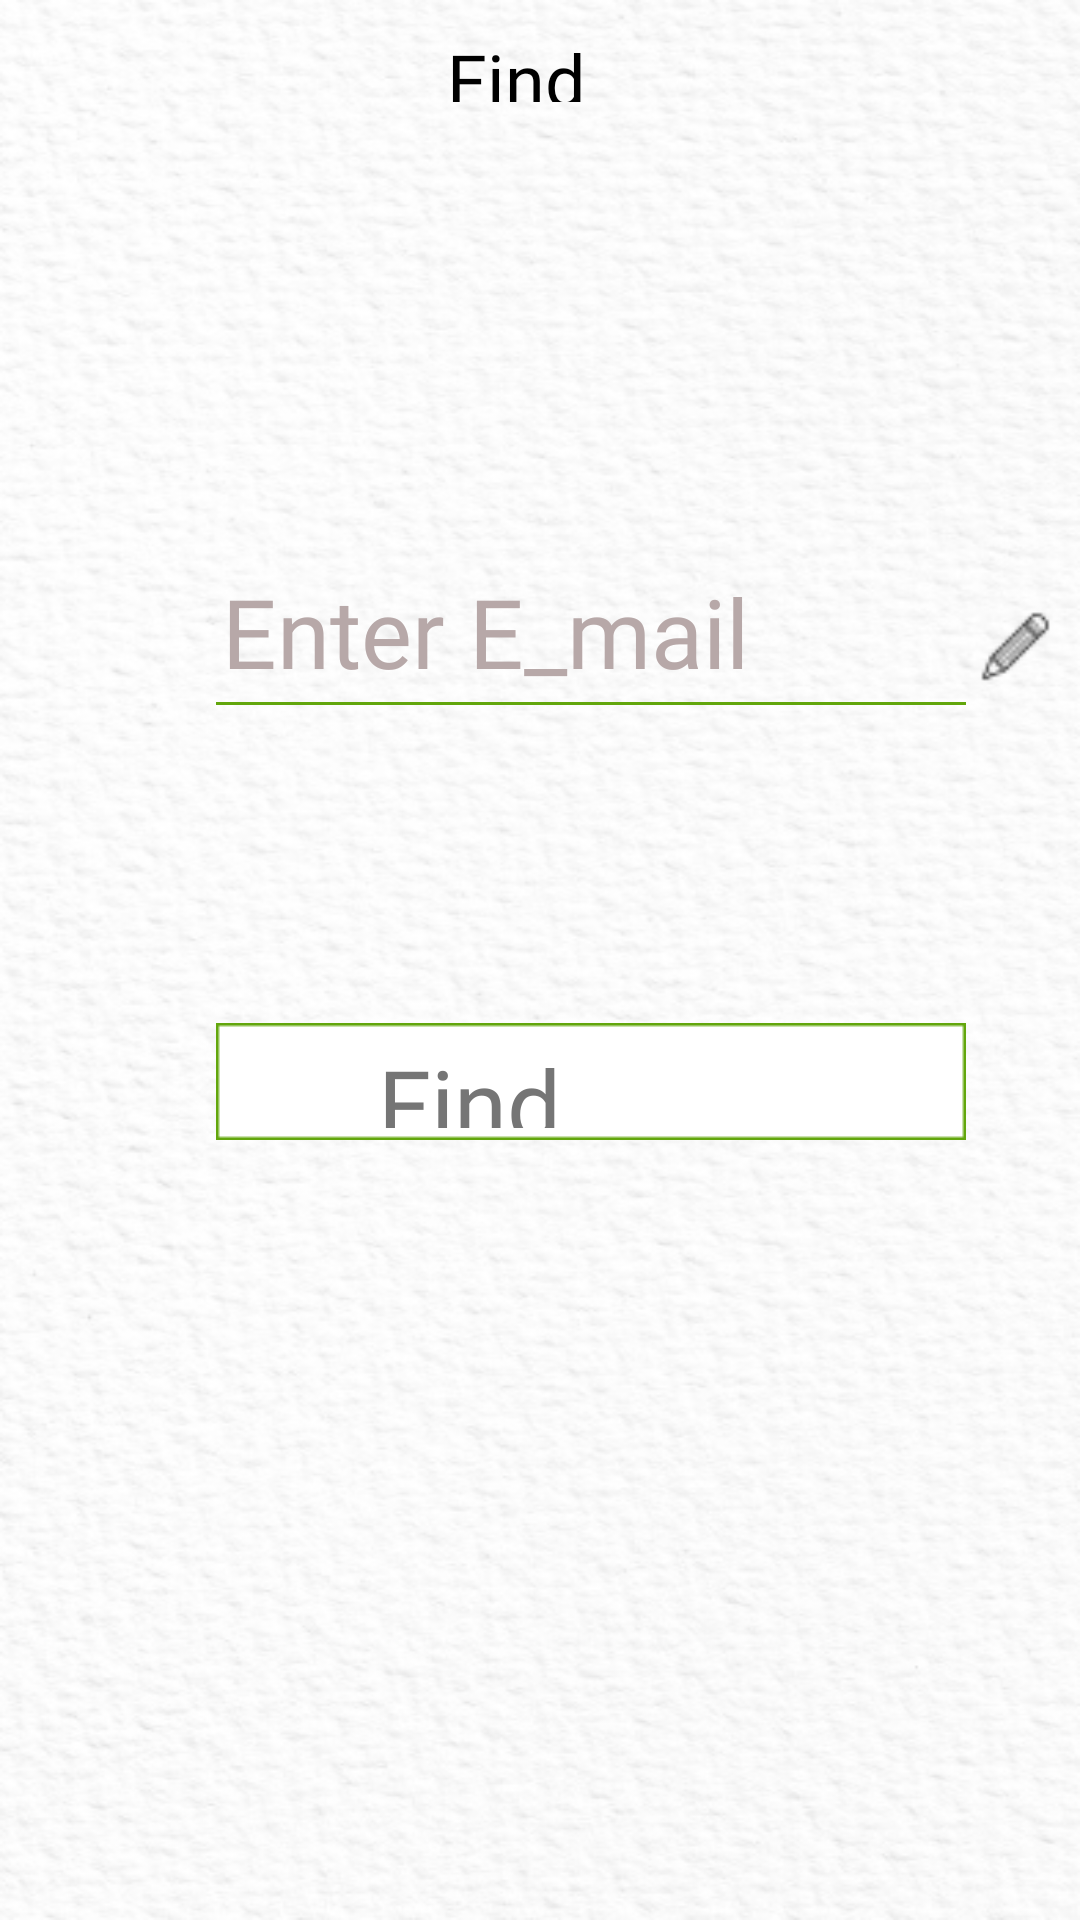

Point at icon controls on the screen. Image size 1080 x 1920, points as (x,y).
penicon: (1015,646)
